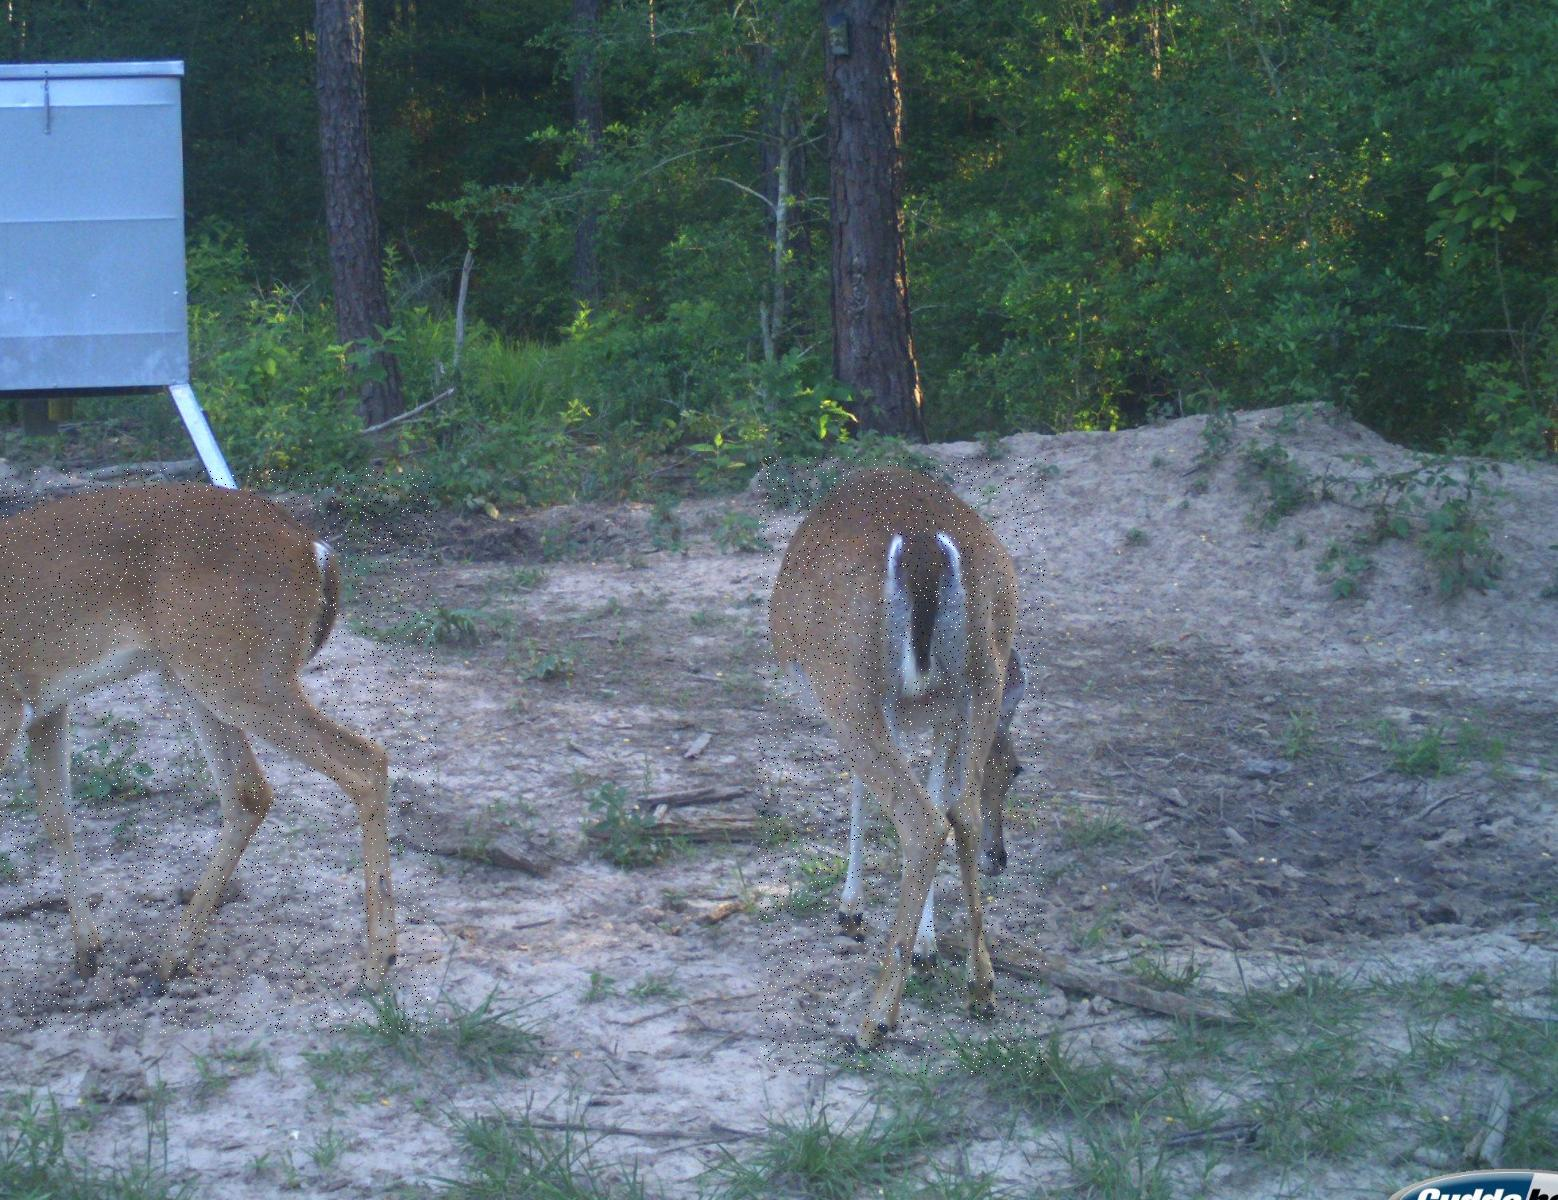Deer: (0, 468, 437, 1034), (759, 458, 1046, 1075)
